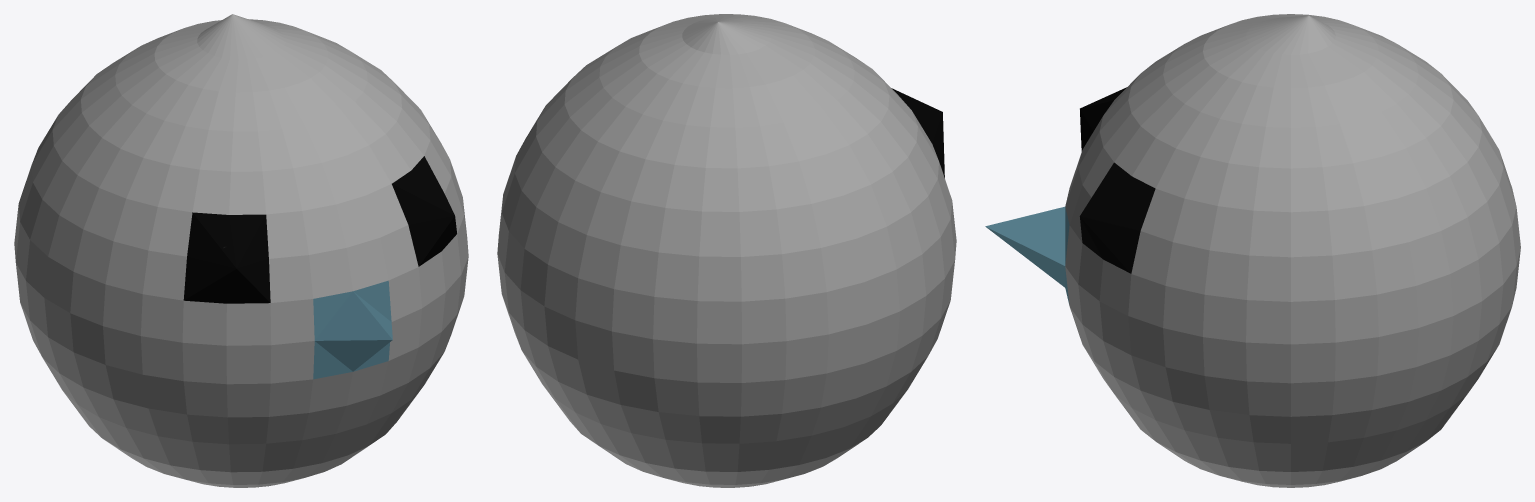
File: player.obj
The picture shows the model from 3 angles, left to right: view 1: azimuth 30°, elevation 25°; view 2: azimuth 150°, elevation 25°; view 3: azimuth 270°, elevation 25°; orthographic projection.
Parts seen in each view (by area): view 1: 球; view 2: 球; view 3: 球.
Boxes of the visible parts, x1,y1,x2,y2 form: 球: (14, 14, 468, 487); 球: (497, 14, 956, 487); 球: (985, 14, 1520, 487).
Bounding box in the file's own units: 0.8568 × 0.9045 × 0.998.
